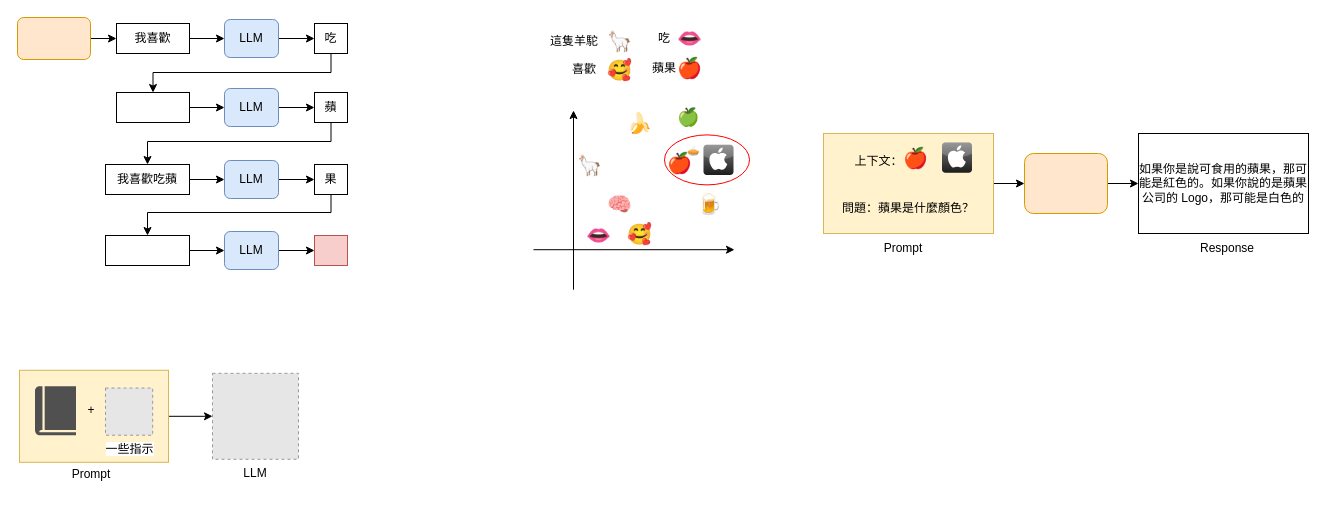
The diagram is 1326 pixels wide and 507 high, and some of its shapes have lost their labels. Grey dashed boxes stand in for pictures. Here are the shapes that lost their labels. From the top down, the box of each, then its label:
(16, 16, 90, 60): 使用者輸入
(116, 92, 190, 122): 我喜歡吃
(1024, 152, 1108, 214): LLM🧠
(104, 234, 190, 266): 我喜歡吃蘋果
(314, 234, 348, 266): END
(34, 386, 76, 435): 參考資料
